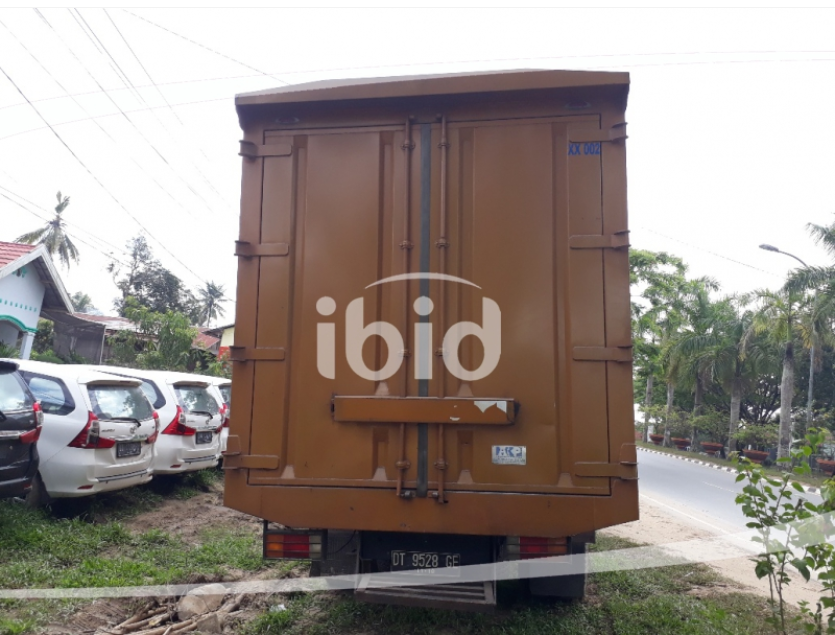plate: (393, 549, 459, 580), (115, 441, 140, 457), (195, 432, 214, 445)
